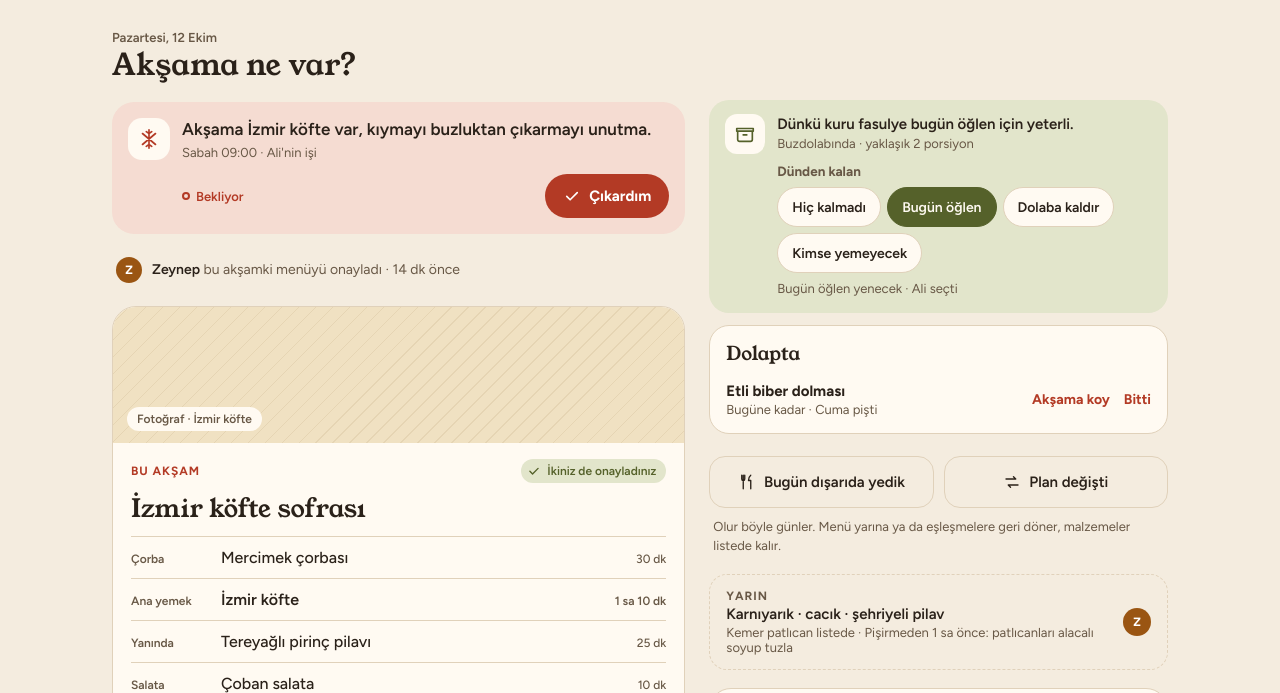
Test: Bugün › plan changed → swap with tomorrow
The width and height of the screenshot is (1280, 693).
Click the button "Plan değişti".
click(1056, 482)  # box [944, 456, 1168, 508]
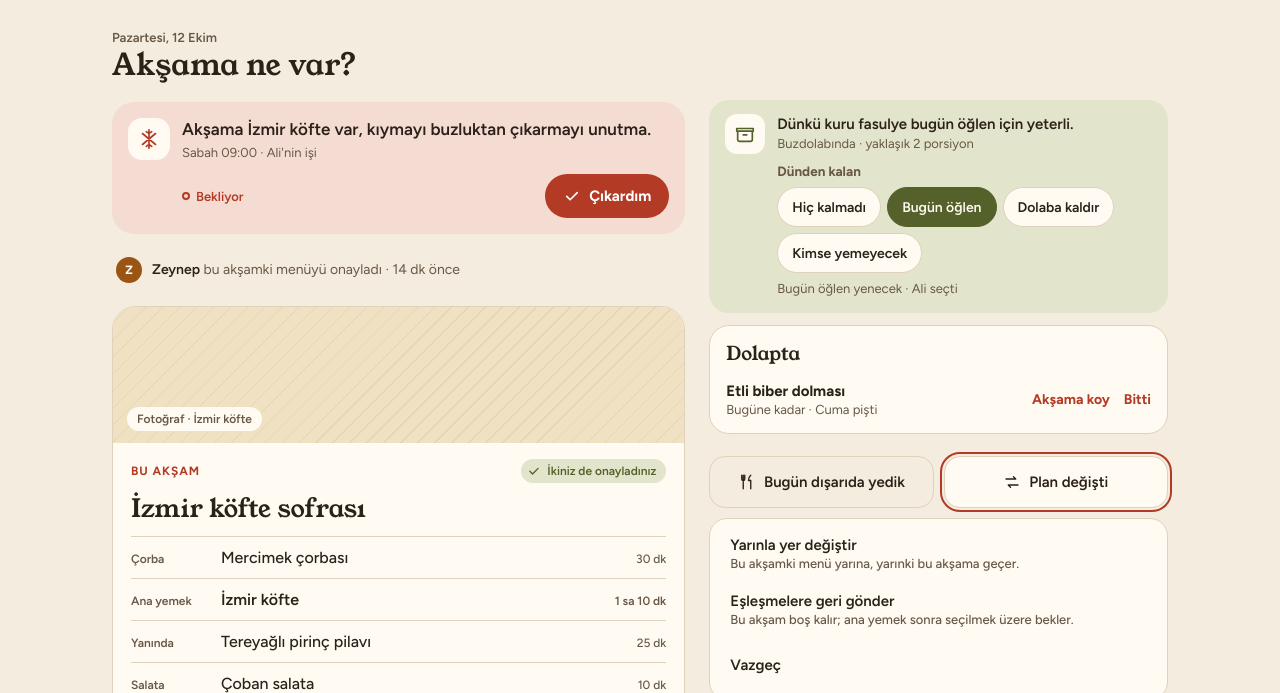
Click the button "Yarınla yer değiştir".
click(939, 553)  # box [718, 527, 1159, 579]
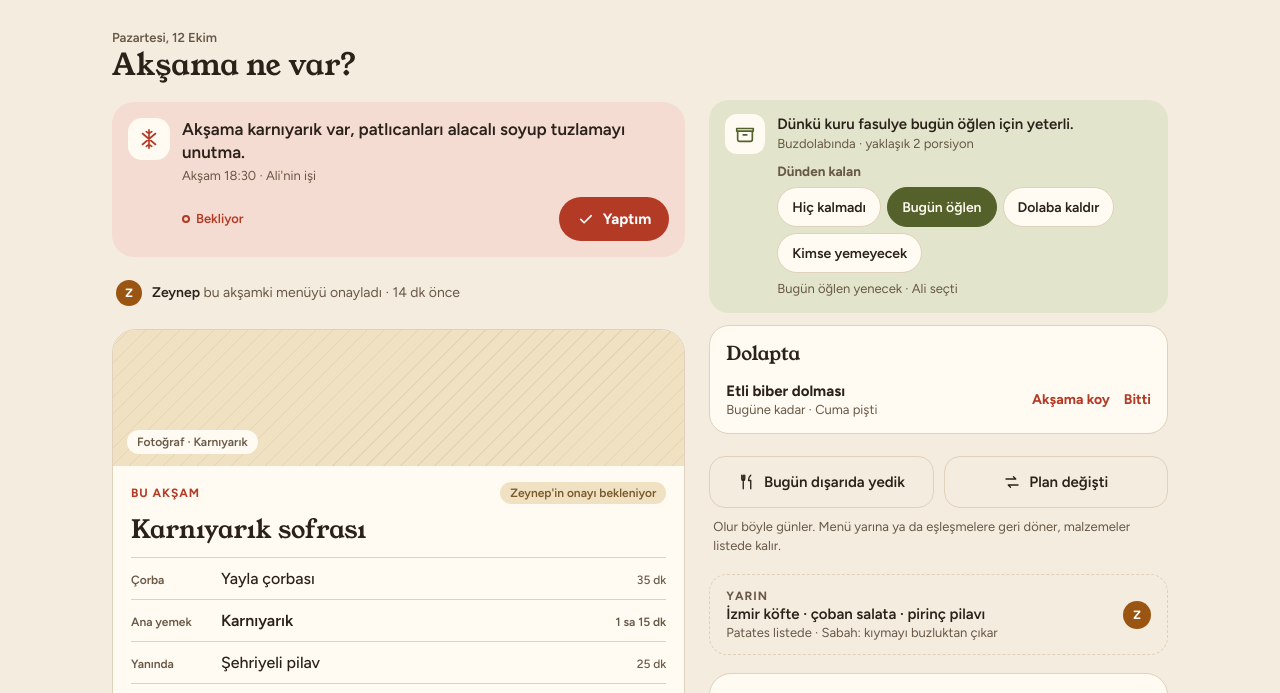
Now the heading "Karnıyarık sofrası" is shown, box [131, 512, 366, 547]
